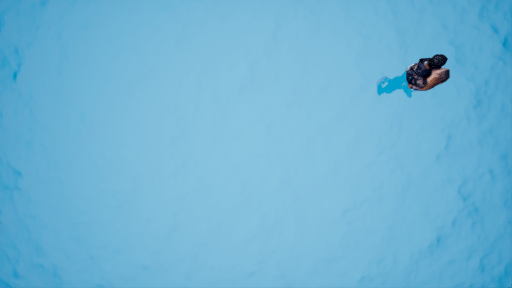person: (377, 50, 450, 102)
